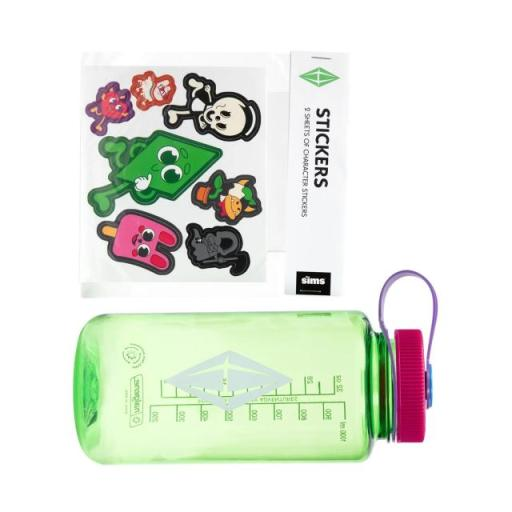bottle: (72, 266, 440, 468)
